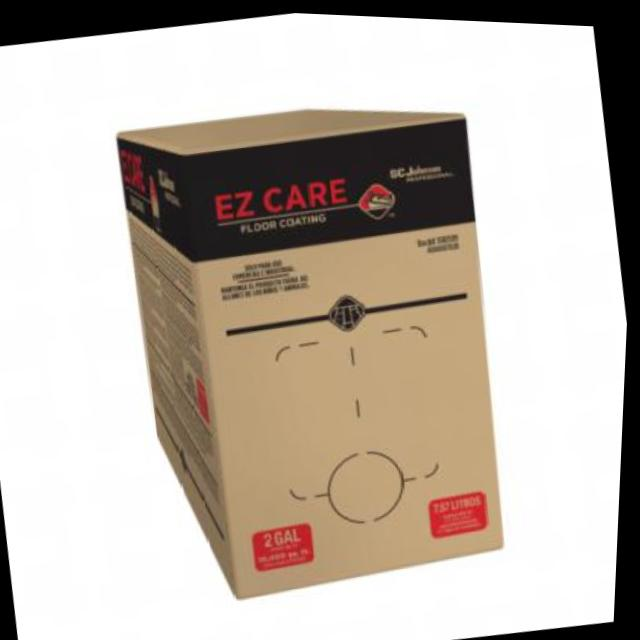box: (80, 57, 555, 631)
